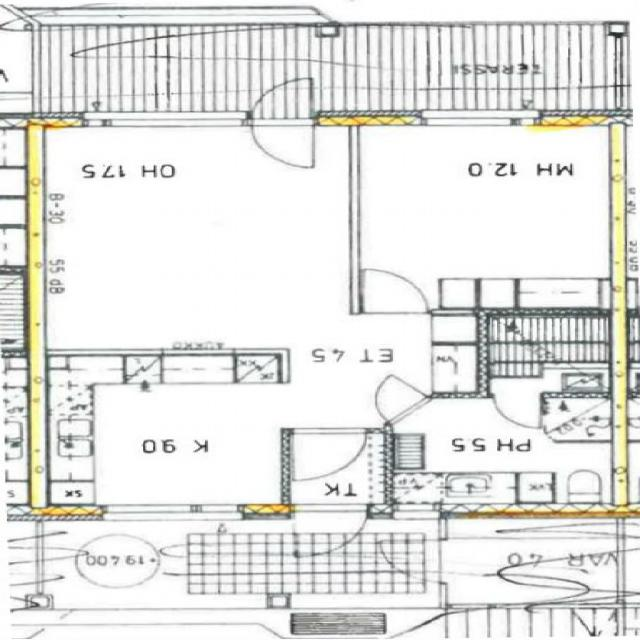door: (348, 371, 432, 425), (294, 503, 367, 558), (292, 427, 365, 480), (369, 540, 446, 582), (361, 266, 427, 314), (252, 118, 314, 165), (252, 79, 314, 126), (492, 392, 540, 428)
